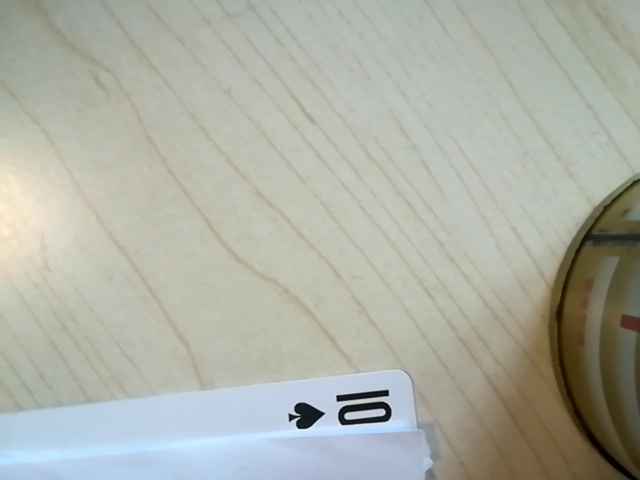ht 10: (266, 381, 420, 442)
